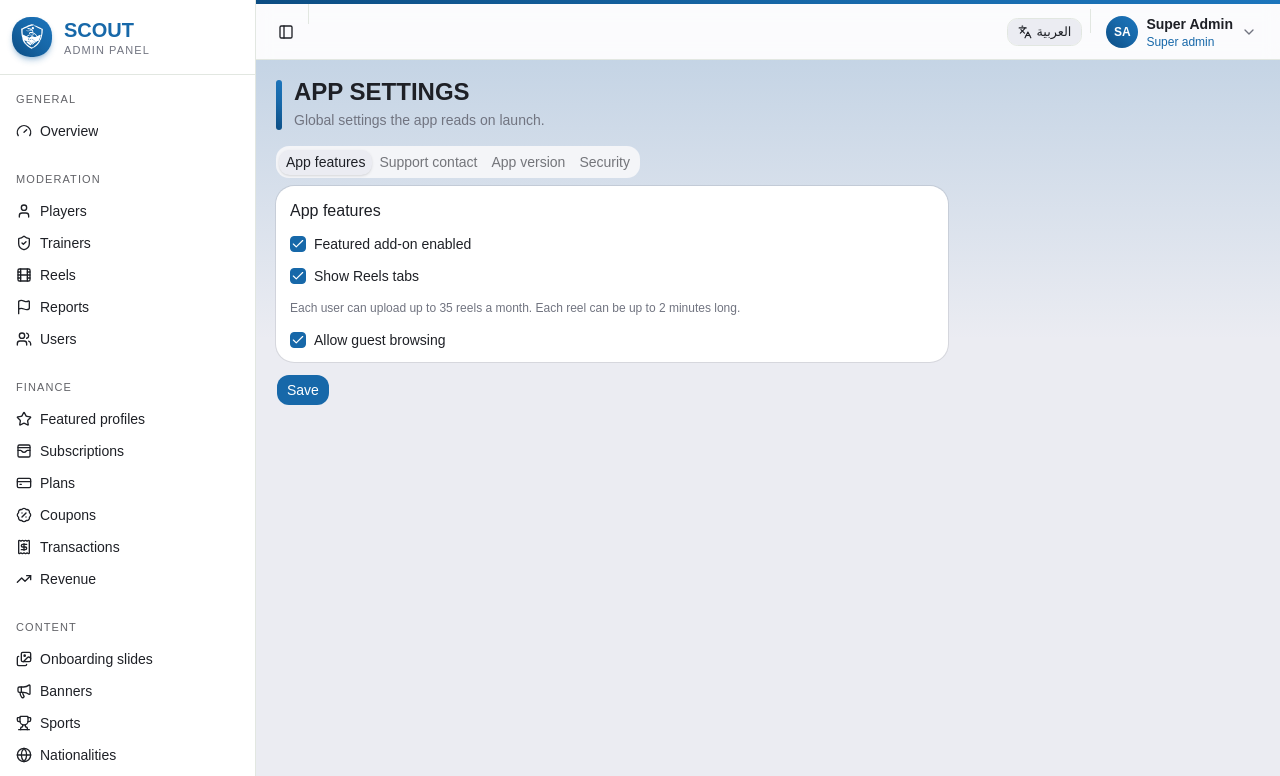
Scenario: clickable dashboard › only enables force update when both platforms have a valid version and store link
This screenshot has width=1280, height=776.
Click the tab "App version".
click(528, 162)  # box [484,150,572,174]
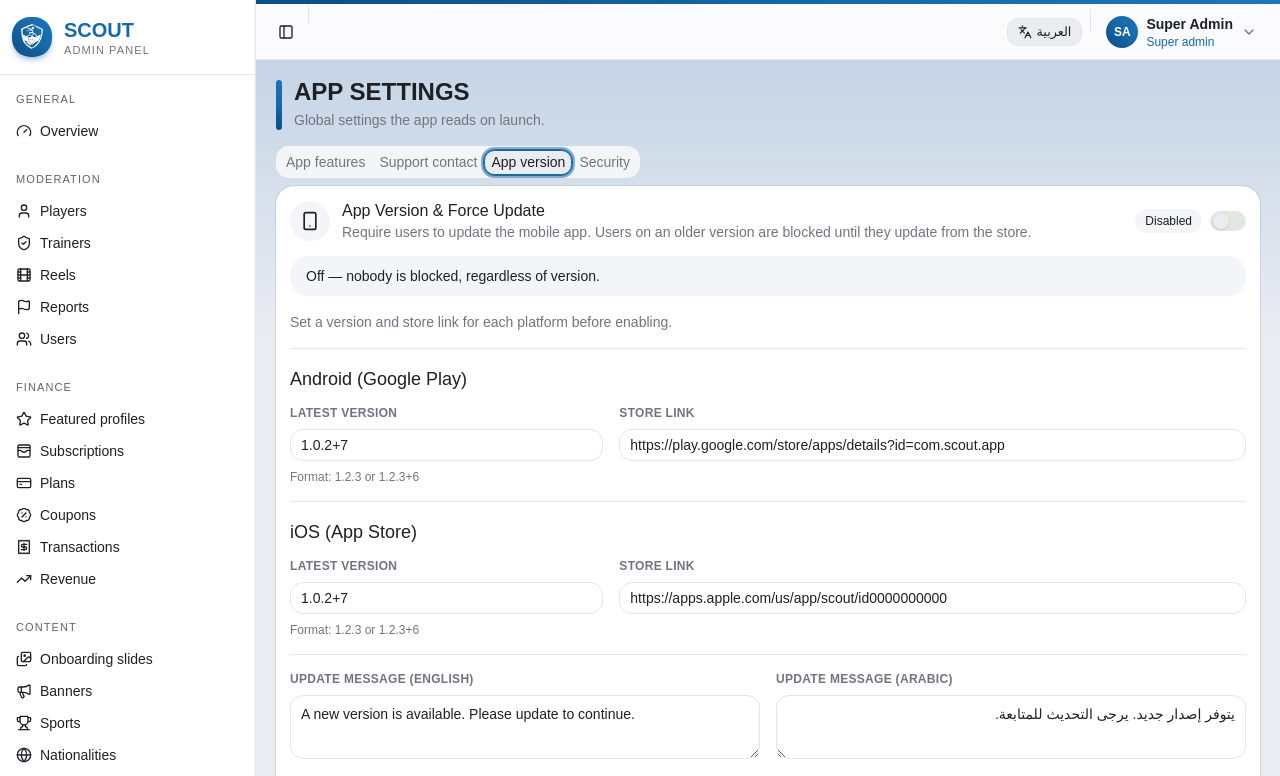
Expected: the text "Off — nobody is blocked, regardless of version." is shown, [290,256,1246,296]
Replace the text in the field labelled "Latest version" below "Android (Google Play)" with "v2" at (447, 445), box [290,429,603,461]
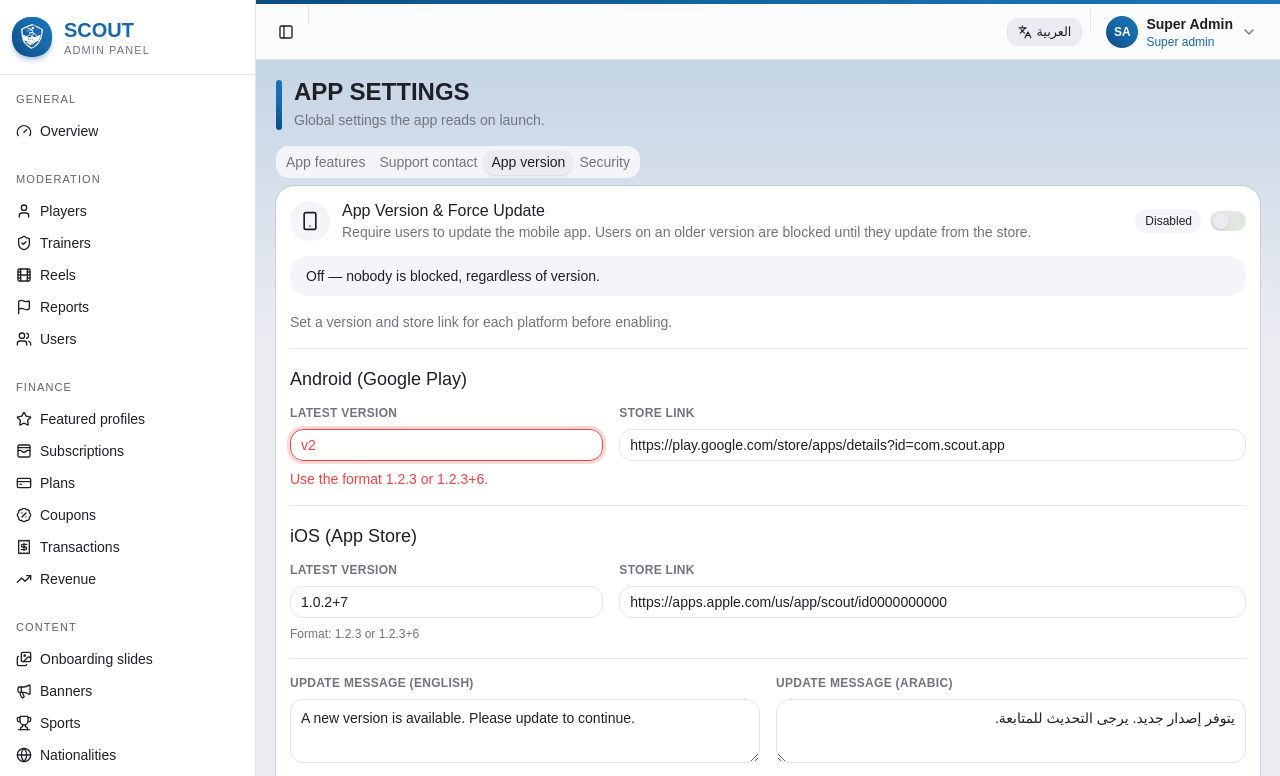
Click the switch named "App Version & Force Update".
click(1228, 221)  # box [1210,211,1246,231]
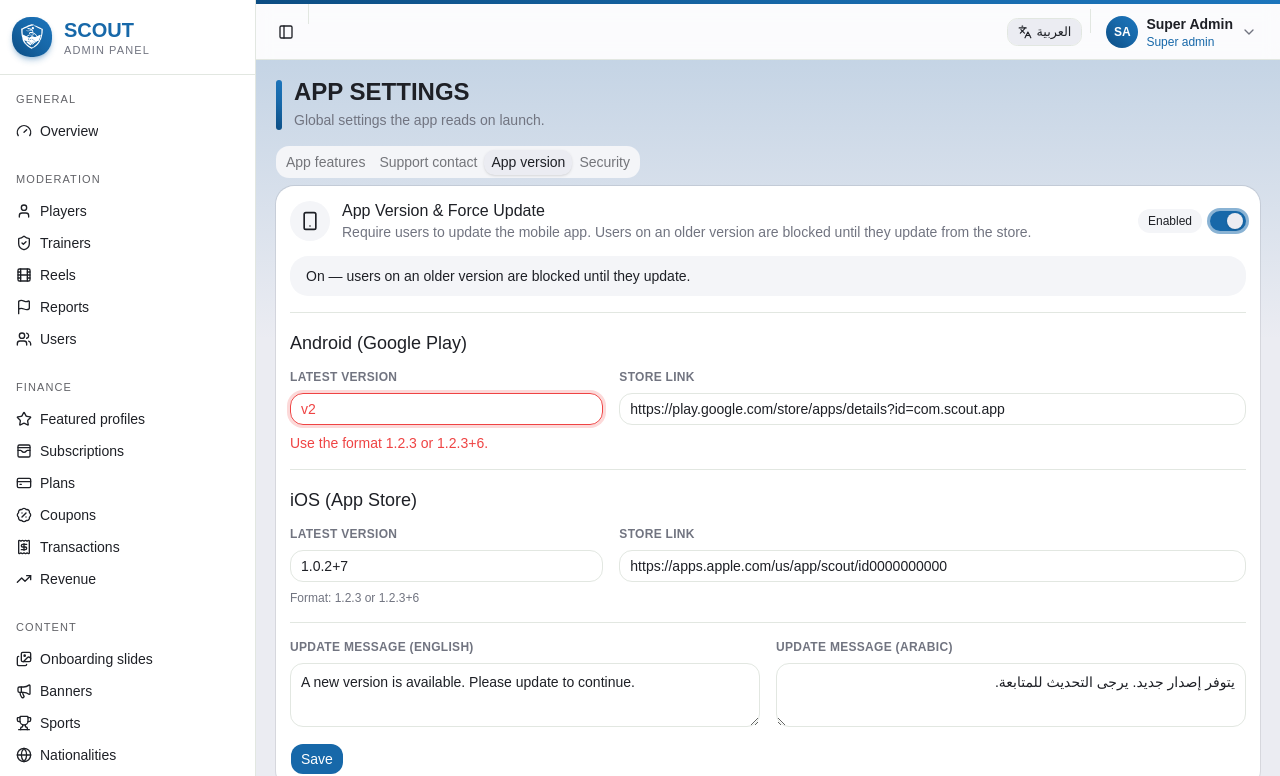
Expected: the text "Use the format 1.2.3 or 1.2.3+6." is shown, [290,435,488,451]
Replace the text in the field labelled "Latest version" below "Android (Google Play)" with "2.0.0+1" at (447, 409), box [290,393,603,425]
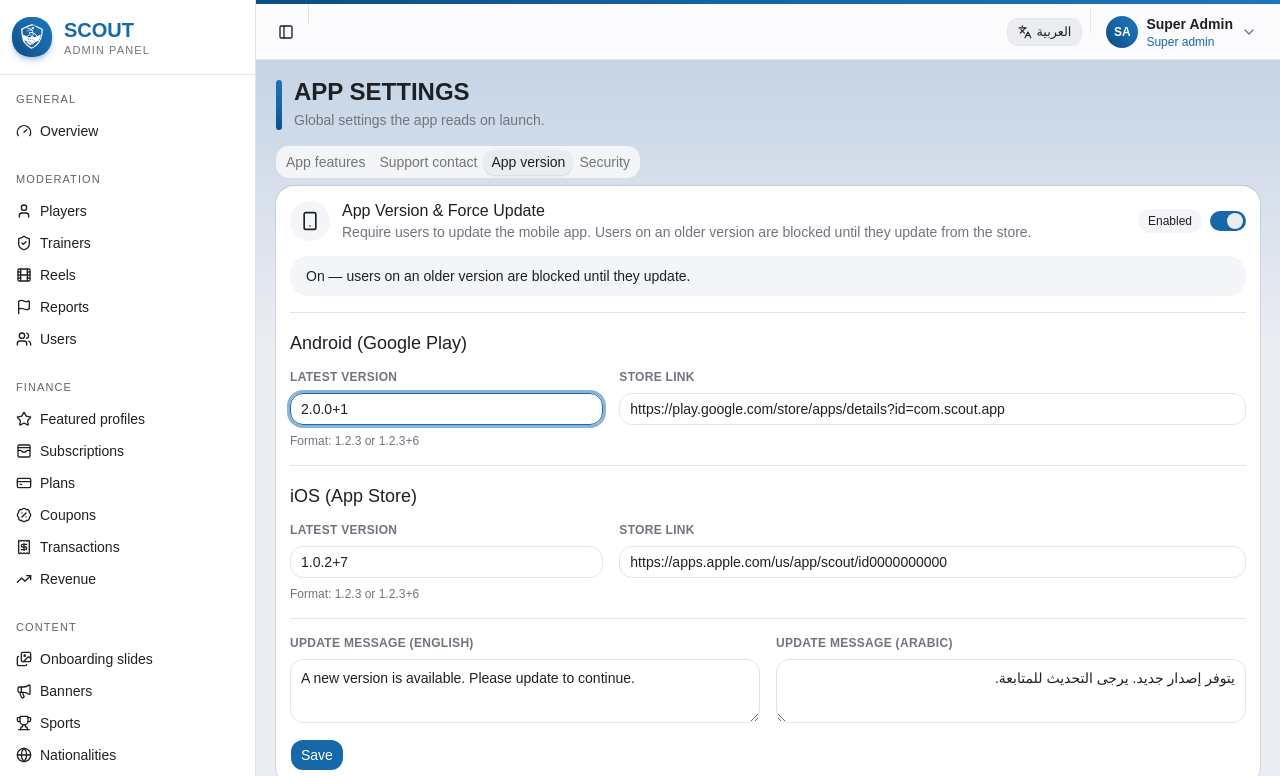
Expected: the text "On — users on an older version are blocked until they update." is shown, [290,256,1246,296]
Expected: the text "Use the format 1.2.3 or 1.2.3+6." is gone
